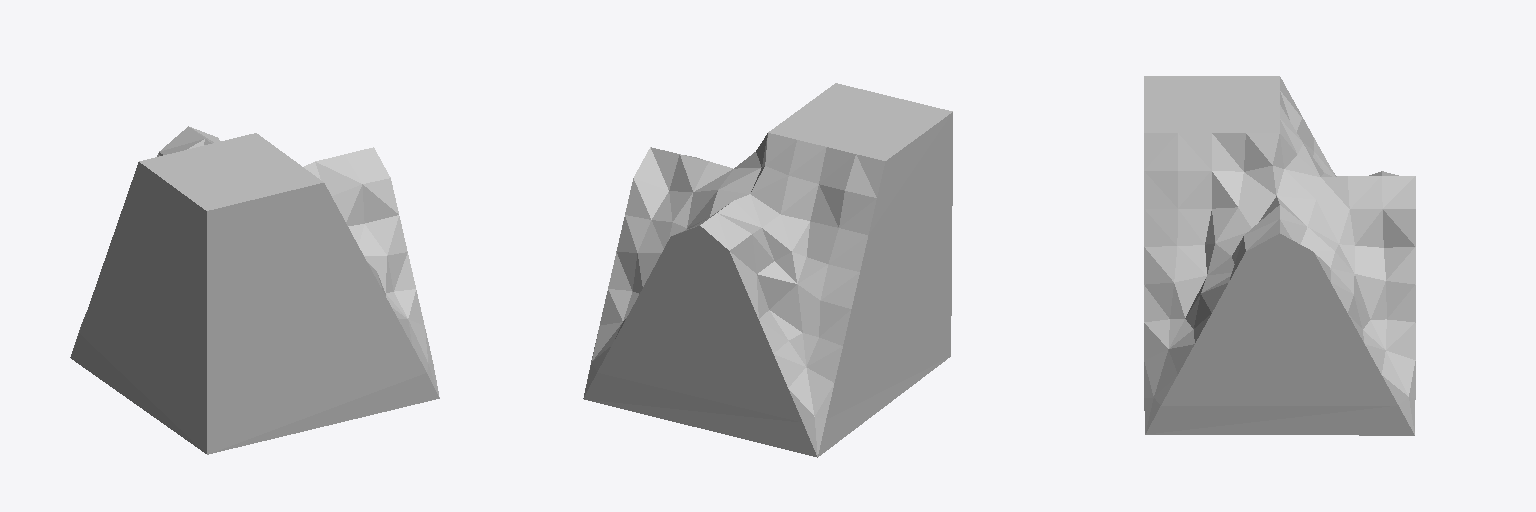
Rendered from triple_edge.obj.
3 views of the same model, side by side, from view 1: azimuth 30°, elevation 25°; view 2: azimuth 150°, elevation 25°; view 3: azimuth 270°, elevation 25° (orthographic).
Visible parts, largest first — view 1: Cube.012_Cube.022; view 2: Cube.012_Cube.022; view 3: Cube.012_Cube.022.
Part boxes in pixels (x1,y1,x2,y2): Cube.012_Cube.022: (70,126,439,454); Cube.012_Cube.022: (583,83,952,457); Cube.012_Cube.022: (1144,76,1415,435).
Size of the model in its own units: 1 by 1 by 1.